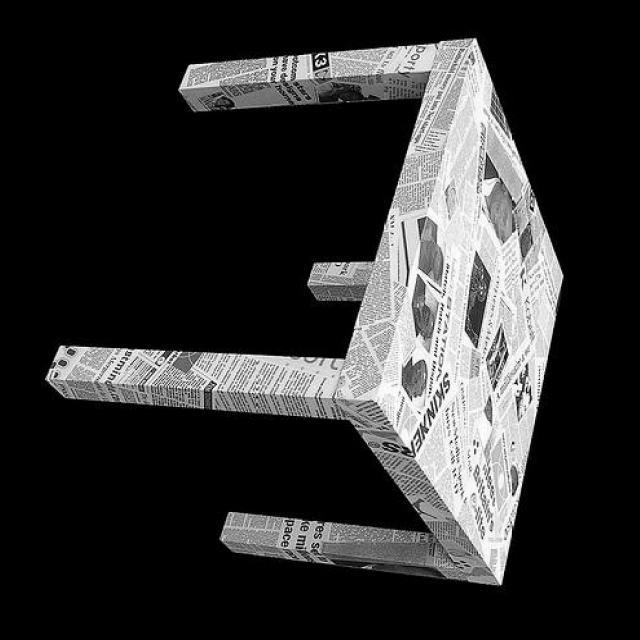table: (44, 38, 562, 586)
